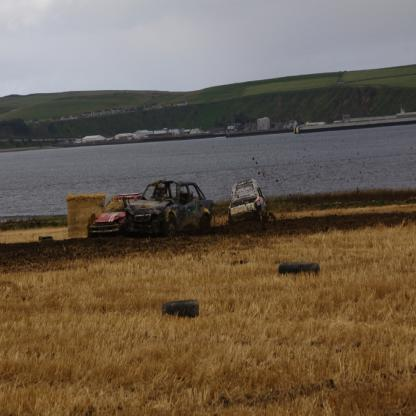Car: (126, 179, 215, 236), (87, 191, 144, 233), (229, 181, 266, 230)
